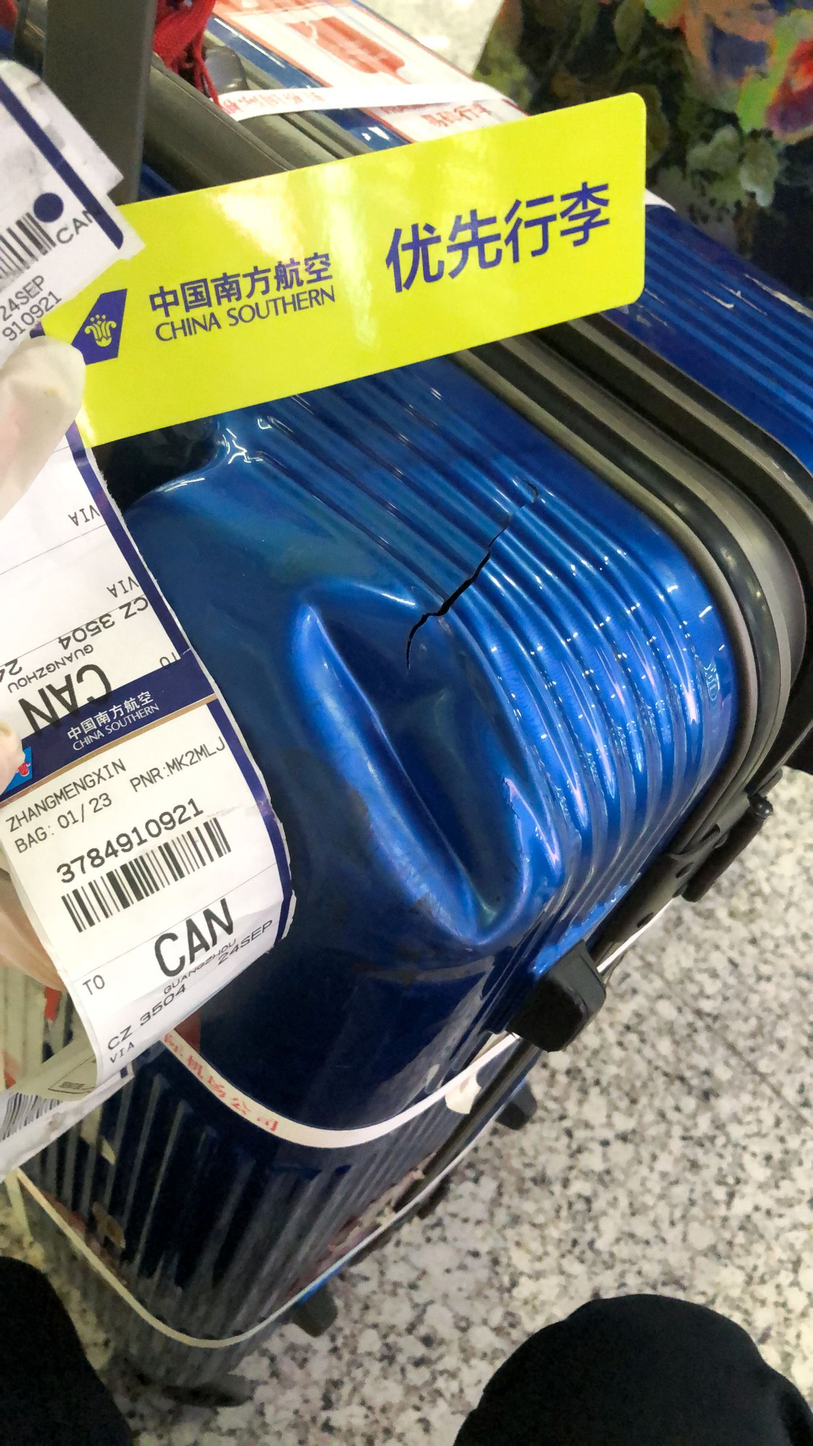rupture: (291, 577, 529, 944)
scratch: (404, 475, 539, 671)
